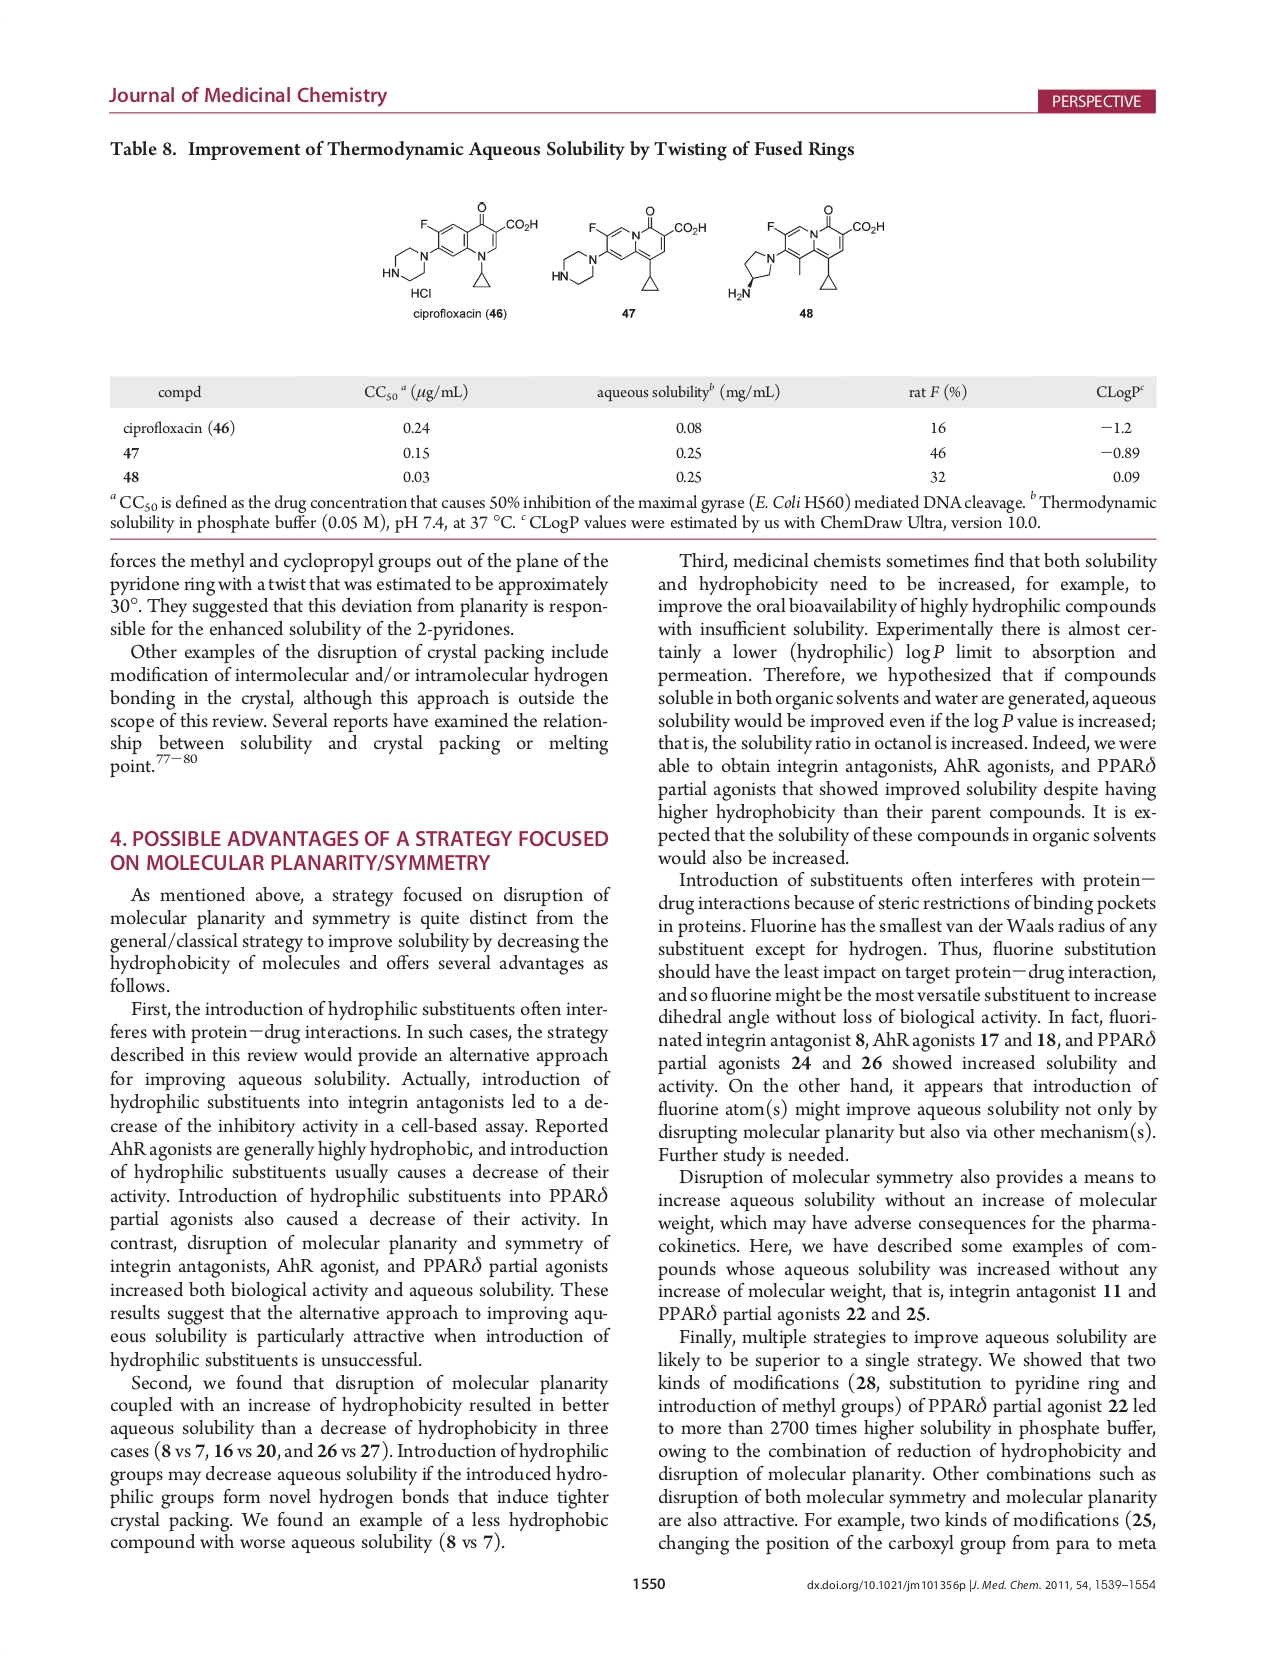exist_molecular: (725, 201, 884, 303), (547, 201, 706, 297), (372, 199, 541, 290)
